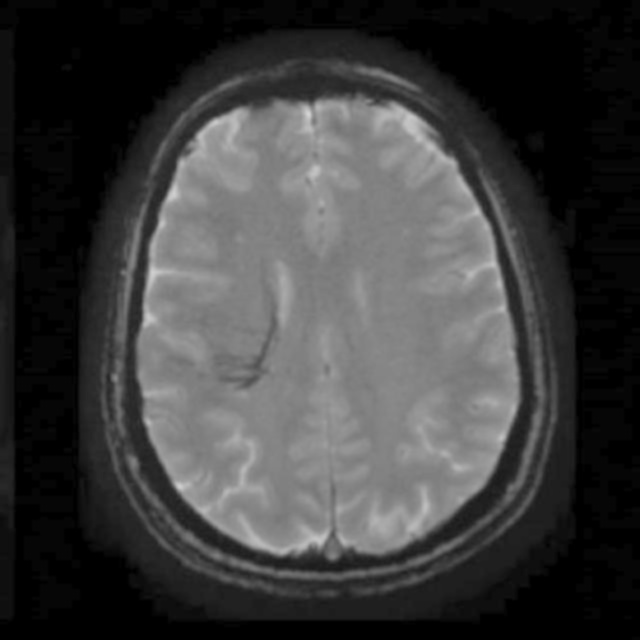glioma tumor: (182, 102, 474, 524)
